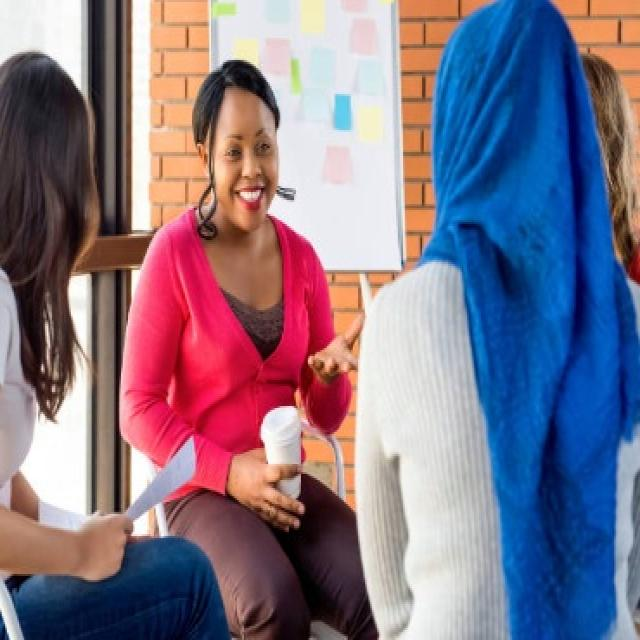adult: (360, 0, 640, 635), (130, 62, 354, 632)
